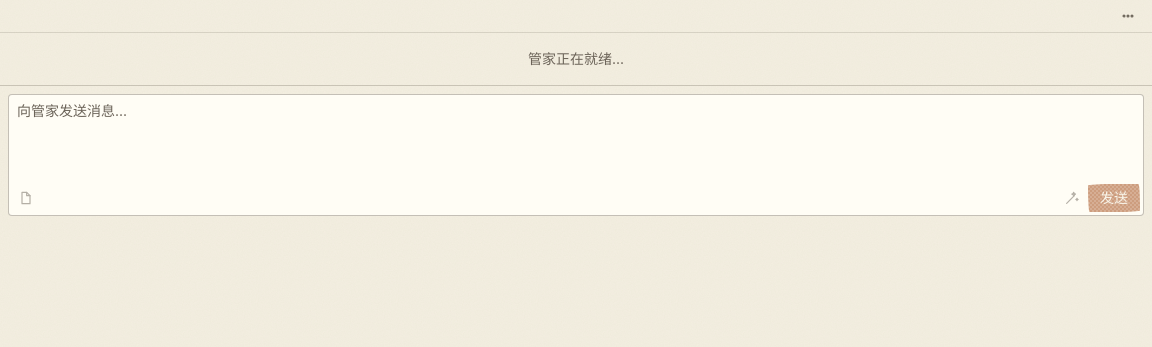
Test case: StewardChat v2 — streaming render › restores the input draft when the send IPC fails
The image size is (1152, 347).
Type "帮我看看这个配置" into the text box with placeholder "向管家发送消息..." at (576, 155), box [8,94,1144,216]
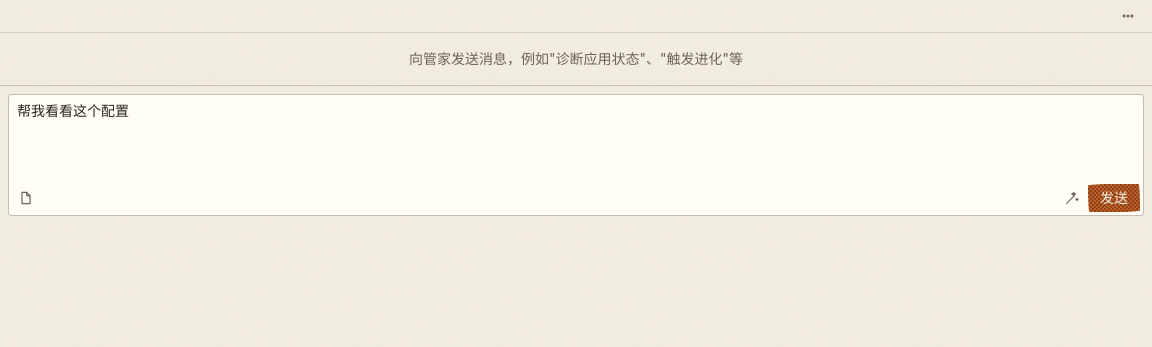
Click the button "发送" at (1114, 198), box [1088,184,1140,212]
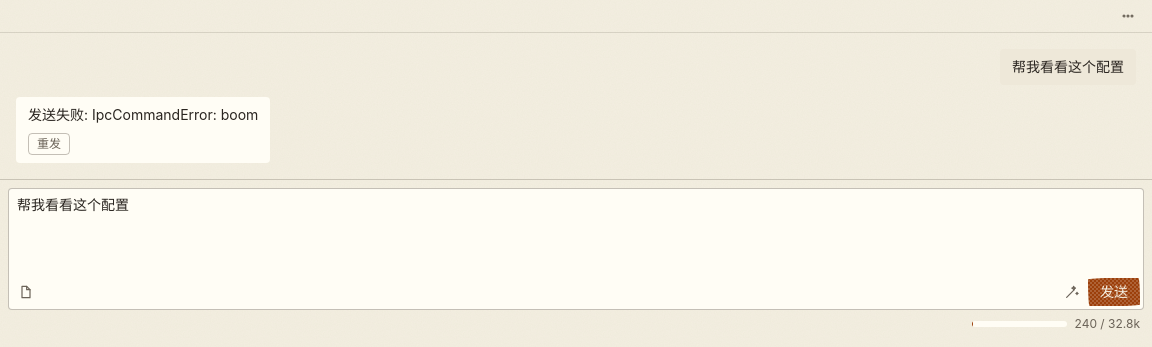
Now the text "发送失败: IpcCommandError: boom 重发" is shown, box [16,97,270,163]
